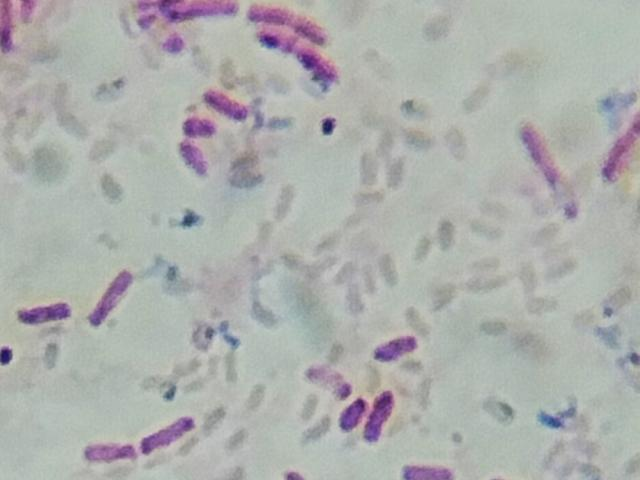E. coli: (519, 122, 566, 210), (262, 33, 336, 83), (248, 2, 330, 41), (91, 265, 131, 333), (603, 113, 640, 180), (139, 416, 195, 449), (19, 297, 64, 334), (172, 136, 211, 176), (396, 456, 456, 480), (369, 392, 397, 440), (379, 333, 421, 362), (203, 85, 241, 117), (85, 440, 126, 463), (185, 113, 222, 136), (0, 3, 20, 45), (341, 392, 366, 425)
